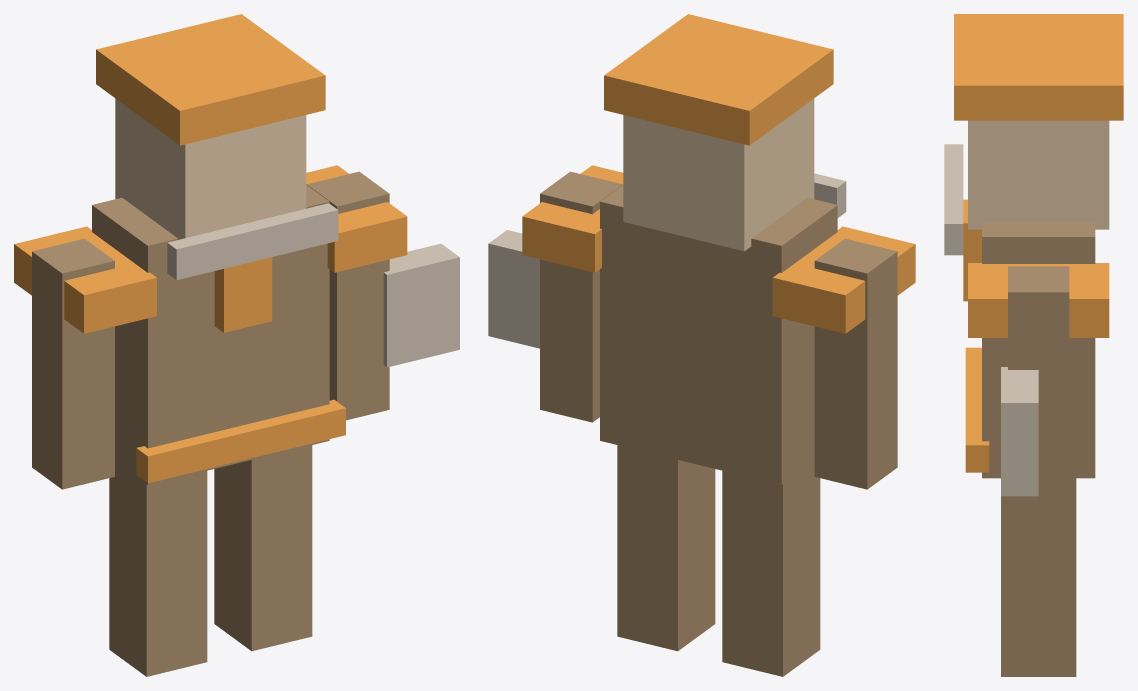
Rendered from 13_lio_runeclasp_warden_at_harmonic.glb.
3 renders of one model, left to right at view 1: azimuth 30°, elevation 25°; view 2: azimuth 150°, elevation 25°; view 3: azimuth 270°, elevation 25°, orthographic.
Visible parts, largest first — view 1: Lio Runeclasp, Warden at Harmonic; view 2: Lio Runeclasp, Warden at Harmonic; view 3: Lio Runeclasp, Warden at Harmonic.
Part boxes in pixels (x1,y1,x2,y2): Lio Runeclasp, Warden at Harmonic: (14,14,459,676); Lio Runeclasp, Warden at Harmonic: (488,14,915,676); Lio Runeclasp, Warden at Harmonic: (944,14,1123,676).
Bounding box in the file's own units: 0.9836 × 1.38 × 0.3833.
